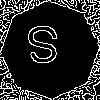S: (25, 25, 61, 73)
